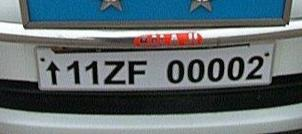0: (167, 57, 186, 85), (226, 54, 245, 82), (206, 55, 224, 84), (187, 58, 207, 84)
1: (66, 60, 81, 89), (85, 57, 100, 85)
2: (246, 54, 266, 83)
F: (127, 57, 149, 86)
Z: (102, 57, 126, 86)
